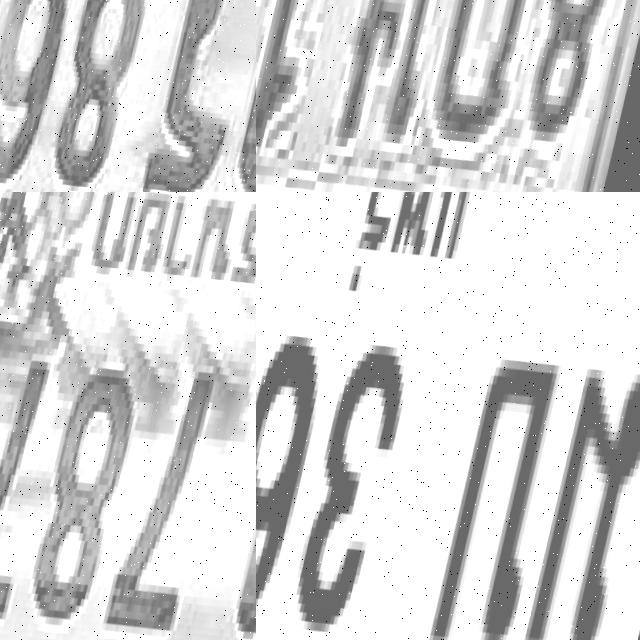license-plate: (256, 192, 640, 640), (0, 192, 256, 640), (256, 0, 640, 192), (0, 0, 256, 192)
